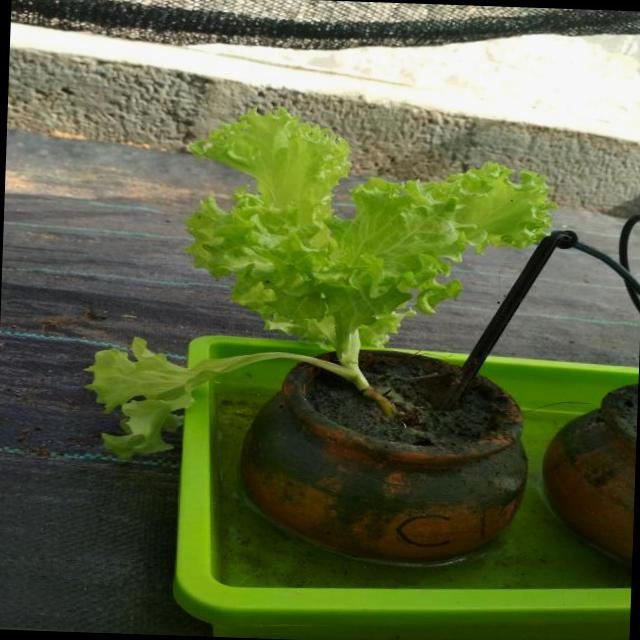Lettuce-Not-Ready-to-Harvest: (89, 108, 553, 456)
